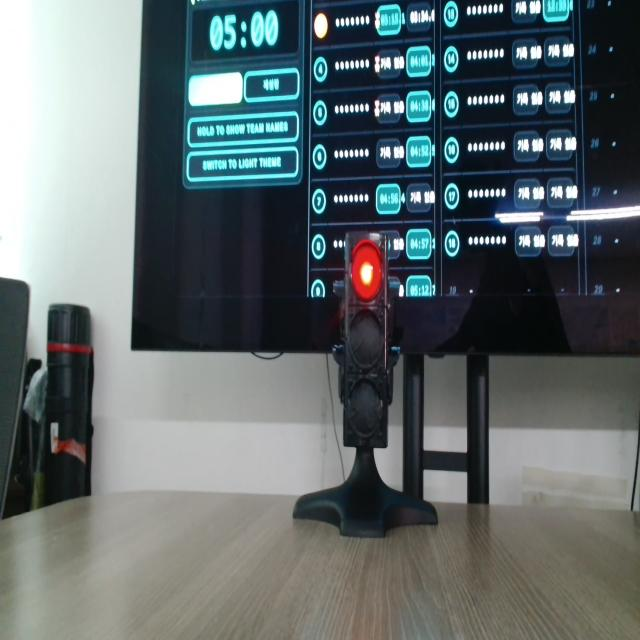red_light: (351, 240, 382, 301)
